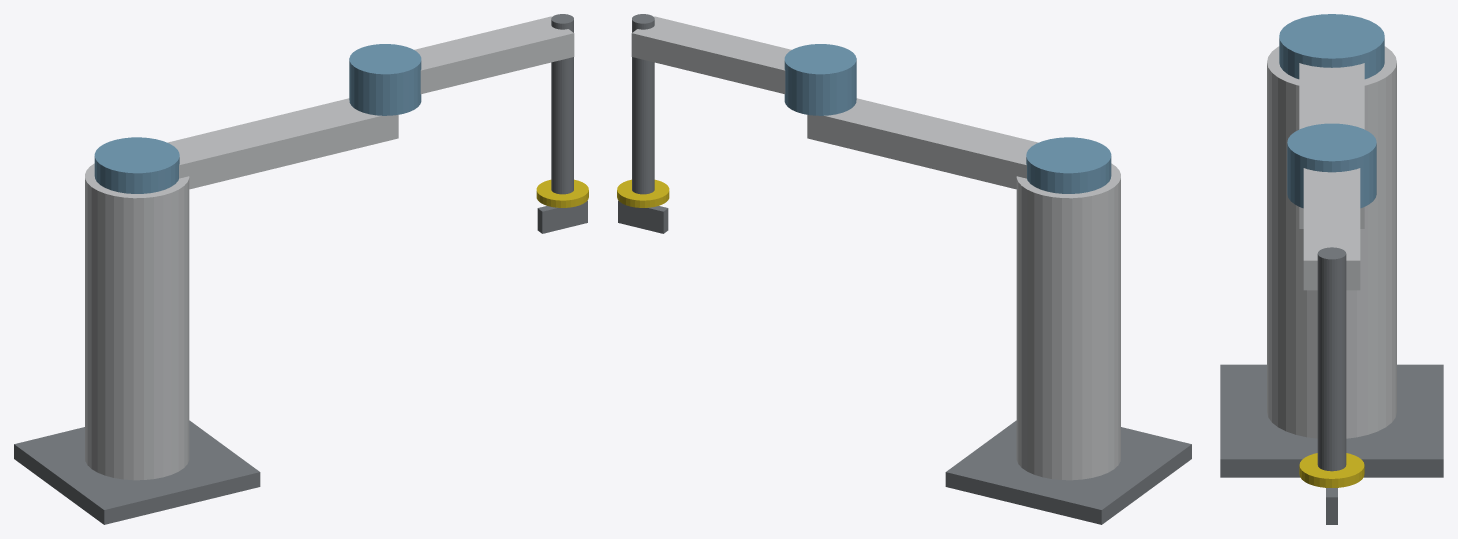
The picture shows the model from 3 angles, left to right: view 1: azimuth 30°, elevation 25°; view 2: azimuth 150°, elevation 25°; view 3: azimuth 270°, elevation 25°; orthographic projection. The views are drawn at different scales.
Parts seen in each view (by area): view 1: base, arm1, arm2, quill, tool; view 2: base, arm1, arm2, quill, tool; view 3: base, arm2, arm1, quill, tool.
Part boxes in pixels (box(x1,y1,x2,y2)): base: box(14, 163, 260, 524); arm1: box(94, 98, 398, 193); arm2: box(349, 16, 574, 115); quill: box(551, 14, 573, 194); tool: box(536, 179, 588, 233); base: box(945, 163, 1191, 524); arm1: box(807, 98, 1111, 193); arm2: box(631, 16, 856, 115); quill: box(632, 14, 654, 194); tool: box(617, 179, 669, 233); base: box(1220, 46, 1443, 477); arm2: box(1287, 123, 1376, 290); arm1: box(1279, 14, 1384, 228); quill: box(1317, 247, 1346, 471); tool: box(1299, 453, 1364, 524).
Size of the model in its own units: 0.742 by 0.476 by 0.22.
